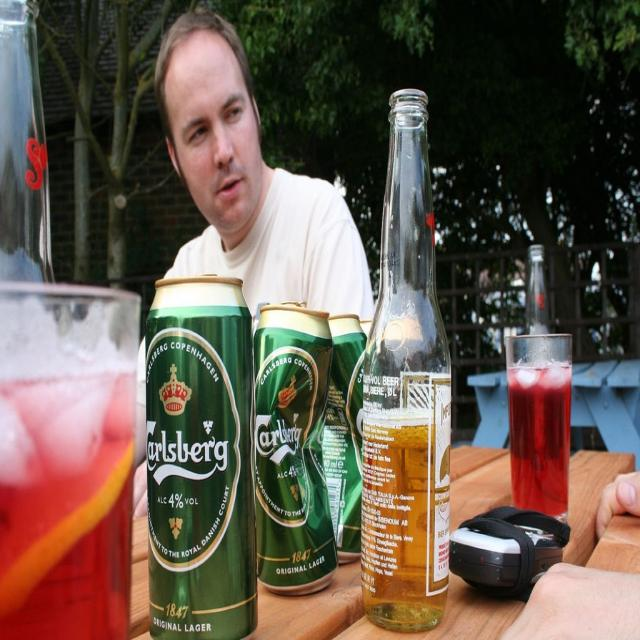carlsberg: (144, 331, 242, 574), (251, 350, 319, 529)
